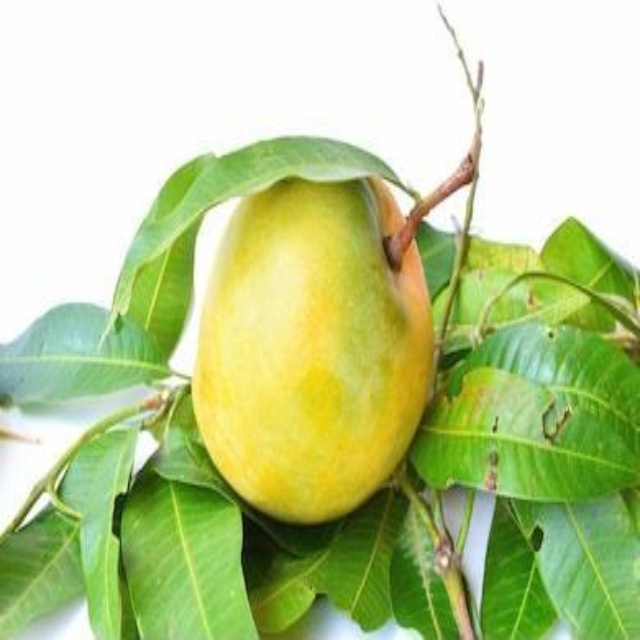mango: (168, 136, 491, 531)
